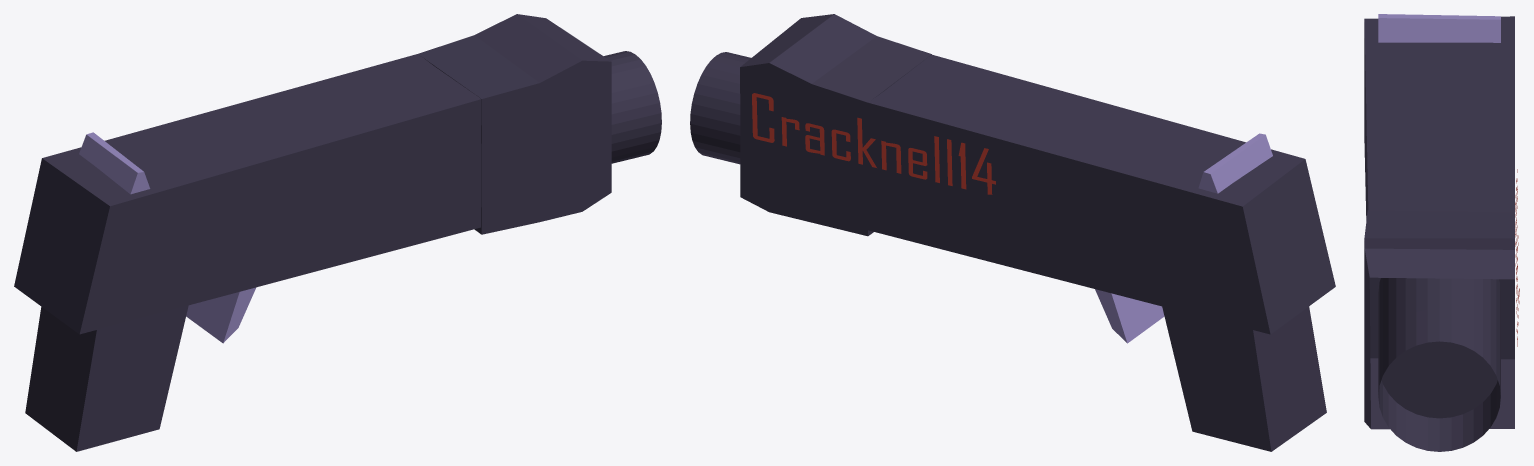
File: pistol.fbx
3 views of the same model, side by side, from view 1: azimuth 30°, elevation 25°; view 2: azimuth 150°, elevation 25°; view 3: azimuth 270°, elevation 25° (orthographic). The views are drawn at different scales.
Visible parts, largest first — view 1: Cube, Cube.001, Cylinder, Cube.002, Cube.003; view 2: Cube, Cube.001, Cylinder, CRACKNELL.14, Cube.003, Cube.002; view 3: Cube, Cylinder, Cube.003, CRACKNELL.14.
Part boxes in pixels (x1,y1,x2,y2): Cube: (14,14,611,334); Cube.001: (25,305,188,451); Cylinder: (604,51,661,163); Cube.002: (186,287,256,343); Cube.003: (79,132,150,194); Cube: (740,14,1335,334); Cube.001: (1162,306,1326,451); Cylinder: (690,52,750,164); CRACKNELL.14: (752,93,995,194); Cube.003: (1198,133,1272,193); Cube.002: (1095,289,1164,343); Cube: (1364,16,1514,429); Cylinder: (1378,278,1500,451); Cube.003: (1378,14,1500,42); CRACKNELL.14: (1515,169,1519,346).
Size of the model in its own units: 1272 by 566 by 253.
